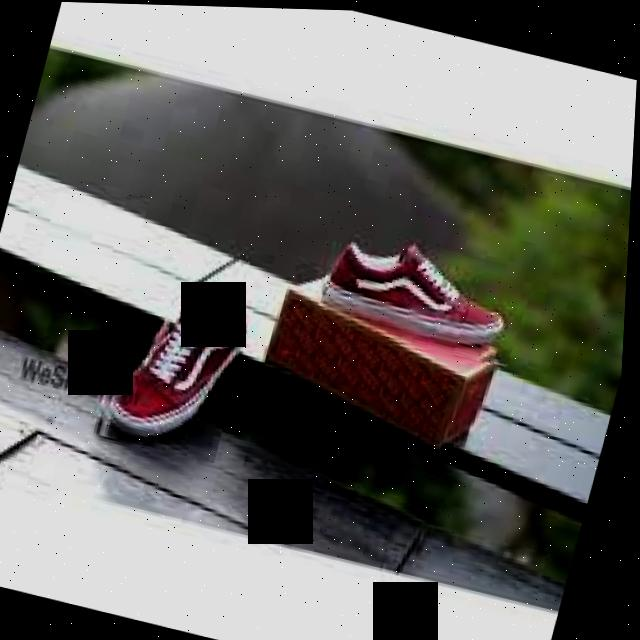shoe: (313, 221, 542, 372), (91, 261, 262, 462)
